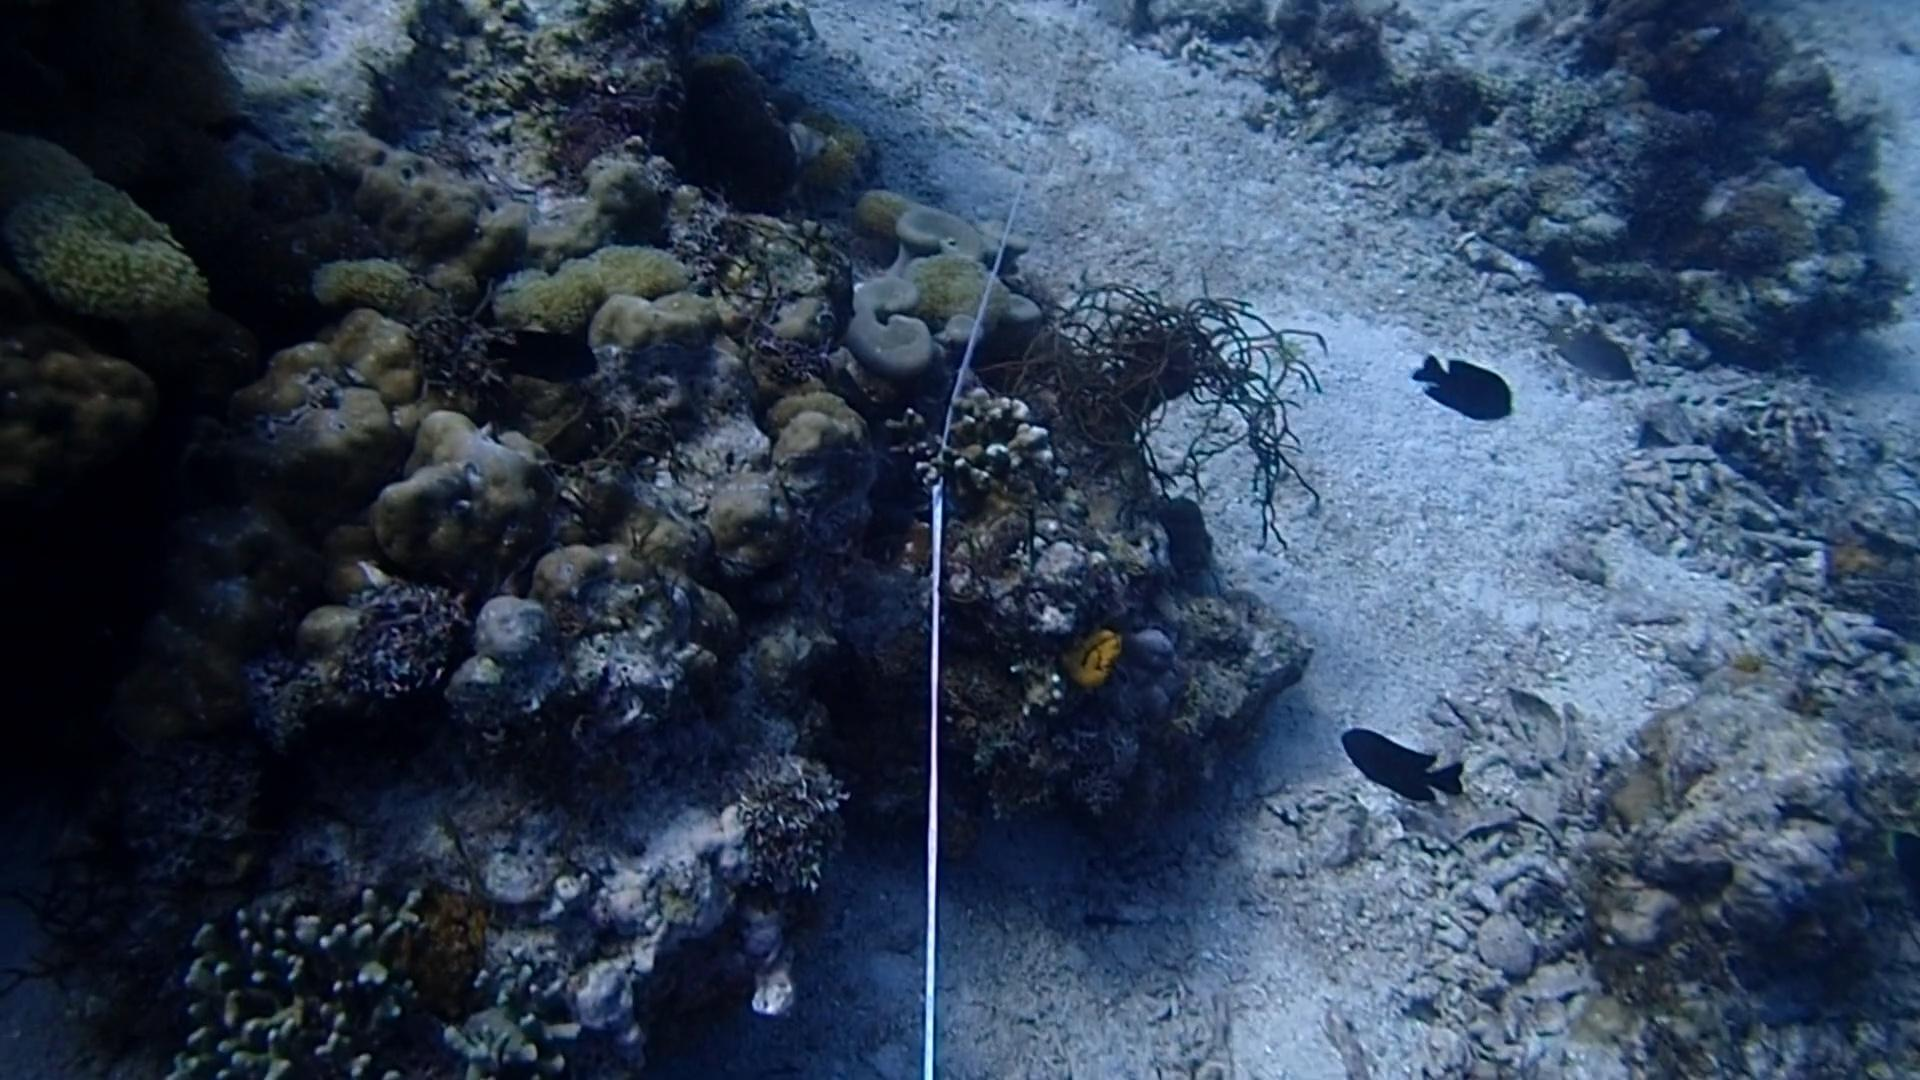Dark Fish: (1337, 708, 1470, 820), (1403, 342, 1522, 433)
Light Fish: (1548, 322, 1656, 390)
